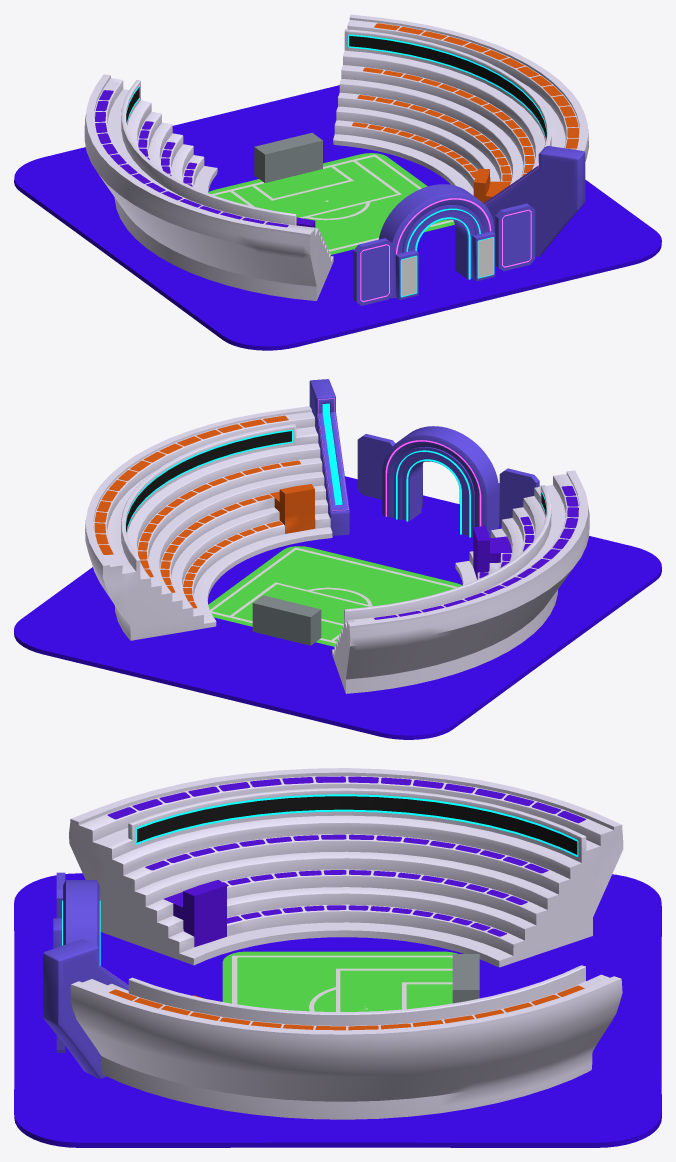
Rendered from futbol_arena.glb.
3 renders of one model, top to bottom at view 1: azimuth 30°, elevation 25°; view 2: azimuth 150°, elevation 25°; view 3: azimuth 270°, elevation 25°, orthographic. The views are drawn at different scales.
Parts seen in each view (by area): view 1: suelo, gradanaranja, gradasvioleta, arcoentrada, murograda, panelgrande, porteria, panelpeq; view 2: suelo, gradanaranja, gradasvioleta, arcoentrada, murograda, panelgrande, porteria; view 3: gradasvioleta, suelo, gradanaranja, murograda, arcoentrada, porteria.
Boxes of the visible parts, x1,y1,x2,y2 form: suelo: (14, 85, 661, 350); gradanaranja: (333, 14, 588, 203); gradasvioleta: (84, 74, 333, 300); arcoentrada: (378, 184, 494, 298); murograda: (483, 146, 585, 256); panelgrande: (353, 203, 535, 305); porteria: (254, 132, 322, 182); panelpeq: (395, 231, 495, 299); suelo: (14, 476, 661, 739); gradanaranja: (85, 406, 332, 640); gradasvioleta: (332, 470, 589, 693); arcoentrada: (382, 426, 498, 537); murograda: (309, 379, 349, 535); panelgrande: (357, 434, 539, 525); porteria: (252, 595, 321, 645); gradasvioleta: (69, 768, 623, 967); suelo: (14, 873, 661, 1147); gradanaranja: (70, 965, 622, 1119); murograda: (43, 939, 128, 1078); arcoentrada: (62, 880, 100, 965); porteria: (452, 954, 479, 1003).
Size of what is drawn, in the model's own units: 31.11 by 7.49 by 31.62.
